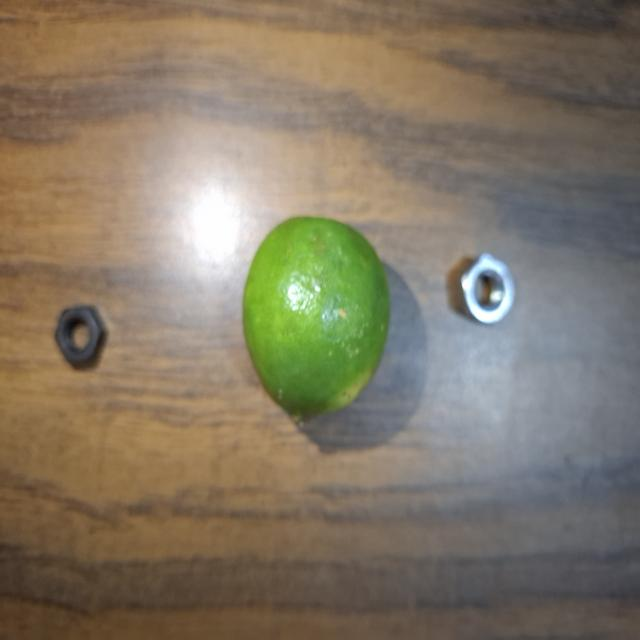limon: (232, 210, 396, 426)
milimetrico: (49, 291, 114, 371)
tuerca: (451, 241, 522, 335)
